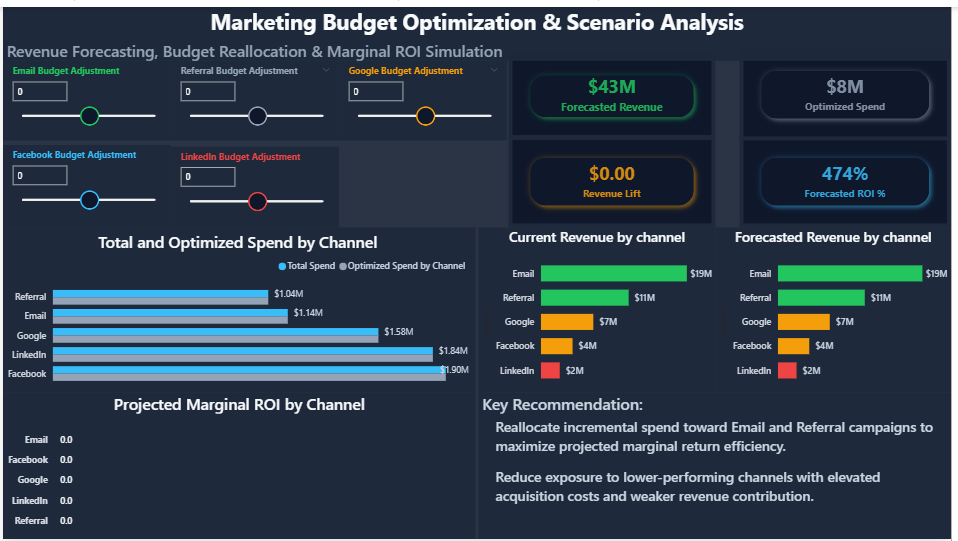

The dashboard page shown, as its layout file describes it:
{"tool":"powerbi","page":{"name":"Page 3","canvas":[1280,720],"ordinal":2},"visuals":[{"type":"slicer","fields":{"Values":["Email Budget Adjustment.Email Budget Adjustment"]},"box":[0,72.9,226.8,107.3],"z":0},{"type":"slicer","fields":{"Values":["Facebook Budget Adjustment.Facebook Budget Adjustment"]},"box":[0,186.3,226.8,111.4],"z":1000},{"type":"slicer","fields":{"Values":["Referral Budget Adjustment.Referral Budget Adjustment"]},"box":[226.8,72.9,226.8,107.3],"z":2000},{"type":"slicer","fields":{"Values":["Google Budget Adjustment.Google Budget Adjustment"]},"box":[453.7,72.9,226.8,107.3],"z":3000},{"type":"slicer","fields":{"Values":["LinkedIn Budget Adjustment.LinkedIn Budget Adjustment"]},"box":[226.8,188.4,226.8,109.4],"z":4000},{"type":"cardVisual","fields":{"Data":["Measure.Forecasted Revenue"]},"box":[682.5,62.8,279.5,115.4],"z":5000},{"type":"cardVisual","fields":{"Data":["Measure.Forecasted ROI %"]},"box":[994.4,174.2,285.6,123.5],"z":6000},{"type":"cardVisual","fields":{"Data":["Measure.Revenue Lift"]},"box":[682.5,174.2,279.5,123.5],"z":7000},{"type":"cardVisual","fields":{"Data":["Measure.Optimized Spend"]},"box":[994.4,56.7,285.6,123.5],"z":8000},{"type":"clusteredBarChart","title":"Total and Optimized Spend by Channel ","fields":{"Category":["marketing_performance.channel"],"Y":["Measure.Total Spend","Measure.Optimized Spend by Channel"]},"box":[0,297.7,638,222.8],"z":9000},{"type":"clusteredBarChart","title":"Projected Marginal ROI by Channel","fields":{"Category":["marketing_performance.channel"],"Y":["Measure.Marginal ROI by Channel"]},"box":[0,520.5,638,200.5],"z":10000},{"type":"textbox","title":"Key Recommendation:","box":[642,520.5,638,200.5],"z":11000},{"type":"textbox","title":"Marketing Budget Optimization & Scenario Analysis","box":[0,0,1280,72.9],"z":12000},{"type":"clusteredBarChart","title":"Current Revenue by channel","fields":{"Category":["marketing_performance.channel"],"Y":["Measure.Total Revenue"]},"box":[642,297.7,320,222.8],"z":13000},{"type":"clusteredBarChart","fields":{"Category":["marketing_performance.channel"],"Y":["Measure.Forecasted Revenue"]},"box":[962,297.7,318,222.8],"z":14000}]}

Visuals, with their boxes in screenshot pixels (x1, y1, x2, y2), scaled from the page's 1280x720 canvas onto the 958x541 screenshot:
slicer - Email Budget Adjustment.Email Budget Adjustment: bbox(0, 55, 170, 135)
slicer - Facebook Budget Adjustment.Facebook Budget Adjustment: bbox(0, 140, 170, 224)
slicer - Referral Budget Adjustment.Referral Budget Adjustment: bbox(170, 55, 339, 135)
slicer - Google Budget Adjustment.Google Budget Adjustment: bbox(340, 55, 509, 135)
slicer - LinkedIn Budget Adjustment.LinkedIn Budget Adjustment: bbox(170, 142, 339, 224)
cardVisual - Measure.Forecasted Revenue: bbox(511, 47, 720, 134)
cardVisual - Measure.Forecasted ROI %: bbox(744, 131, 957, 224)
cardVisual - Measure.Revenue Lift: bbox(511, 131, 720, 224)
cardVisual - Measure.Optimized Spend: bbox(744, 43, 957, 135)
"Total and Optimized Spend by Channel " clusteredBarChart: bbox(0, 224, 478, 391)
"Projected Marginal ROI by Channel" clusteredBarChart: bbox(0, 391, 478, 540)
"Key Recommendation:" textbox: bbox(480, 391, 957, 540)
"Marketing Budget Optimization & Scenario Analysis" textbox: bbox(0, 0, 957, 55)
"Current Revenue by channel" clusteredBarChart: bbox(480, 224, 720, 391)
clusteredBarChart - marketing_performance.channel x Measure.Forecasted Revenue: bbox(720, 224, 957, 391)
